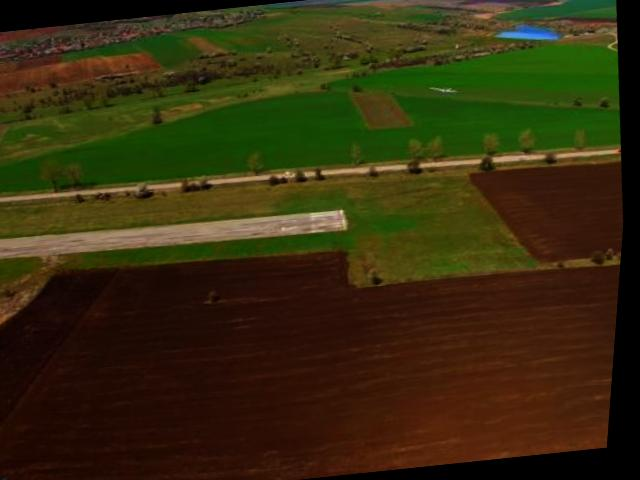uav: (425, 76, 464, 104)
